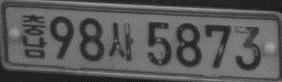3: (234, 25, 261, 70)
5: (146, 21, 172, 66)
7: (204, 24, 231, 68)
8: (78, 17, 105, 61), (176, 22, 202, 67)
9: (49, 15, 74, 59)
사: (108, 22, 133, 62)
충남_V: (20, 13, 48, 58)
